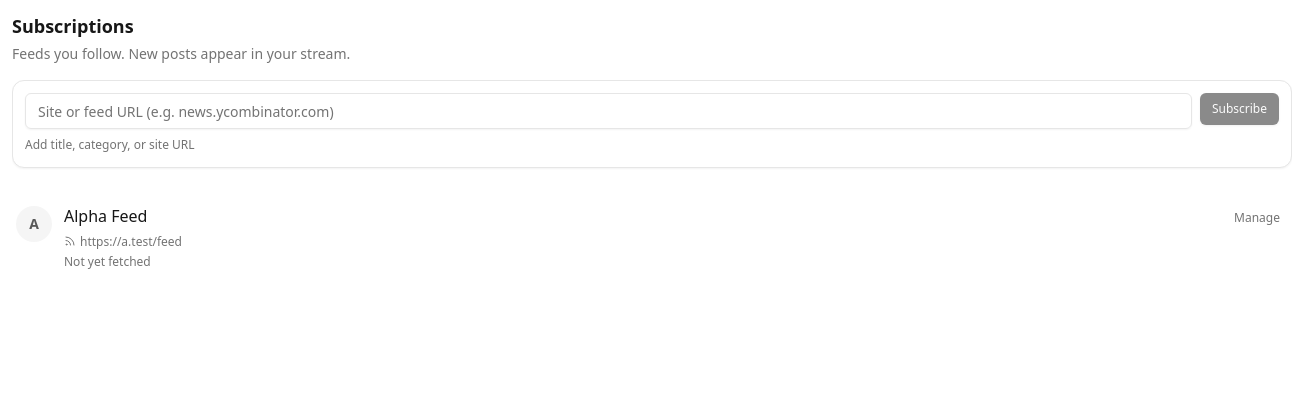
SubscriptionsView › removes a subscription via the Manage menu
Expected: the text "Alpha Feed" is shown, [64,204,147,228]
Click the button "Manage" at x=1257, y=218, box [1226,204,1288,232]
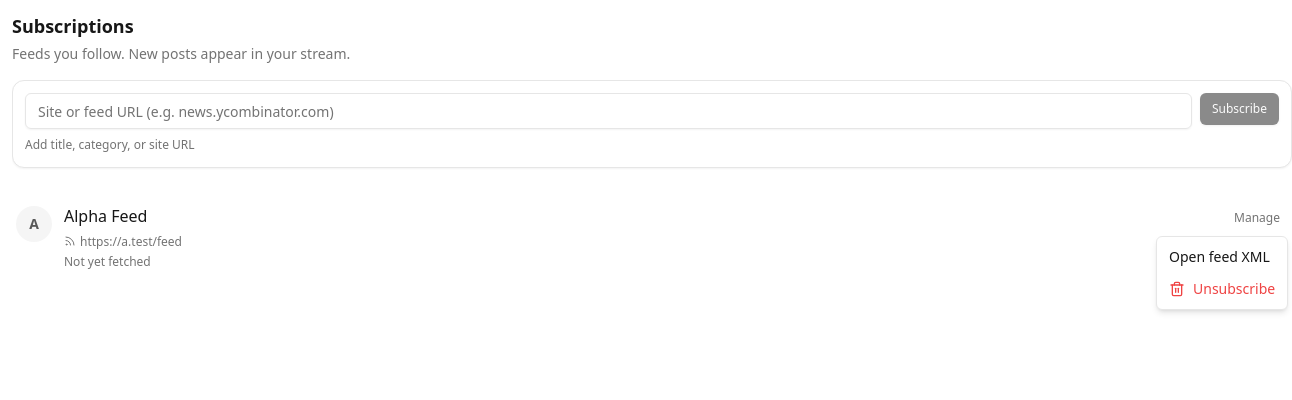
Click the menu item "Unsubscribe" at x=1222, y=288, box [1169,279,1275,298]
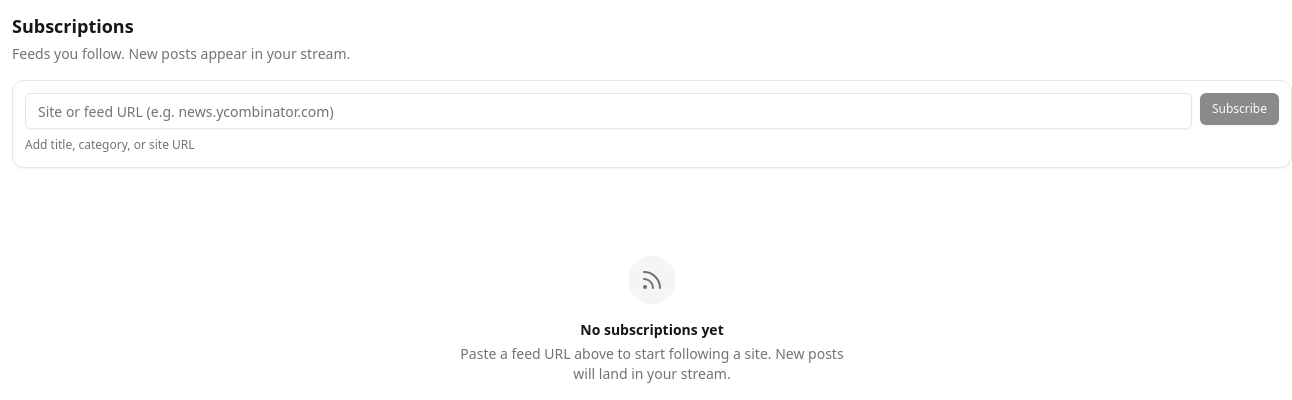
Expected: the heading "No subscriptions yet" is shown, [580,320,724,340]
